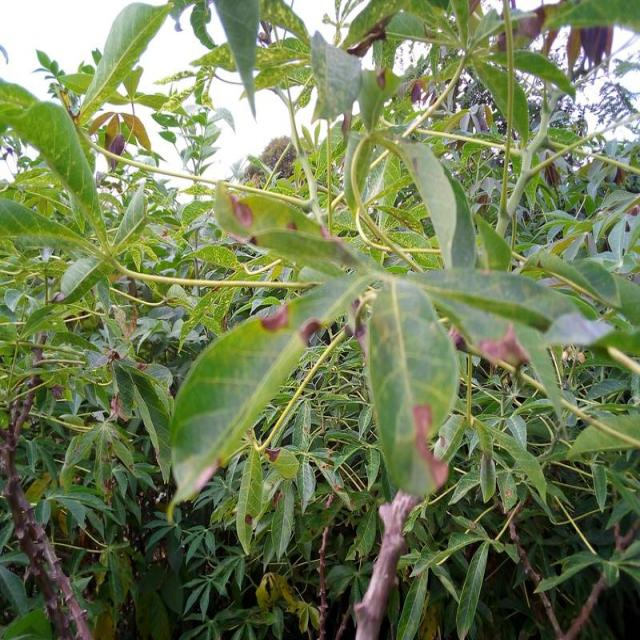cassava leaf: (166, 310, 307, 518), (366, 278, 459, 497), (0, 79, 109, 253), (309, 28, 362, 122)
